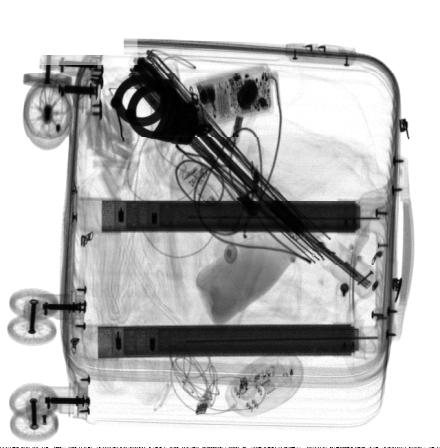HandCuffs: (109, 54, 201, 145)
